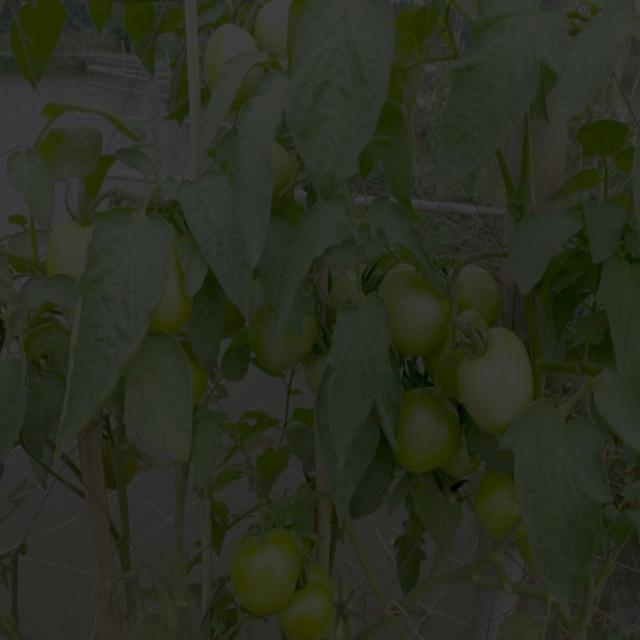tomato: (380, 377, 457, 483), (463, 331, 537, 439), (384, 261, 449, 353), (233, 532, 300, 611), (477, 471, 525, 545), (429, 305, 467, 398), (274, 578, 331, 640), (50, 212, 95, 289), (452, 264, 501, 328), (199, 19, 259, 68), (156, 265, 193, 333), (324, 264, 375, 304), (255, 1, 292, 56), (274, 137, 302, 191), (448, 437, 482, 479)
